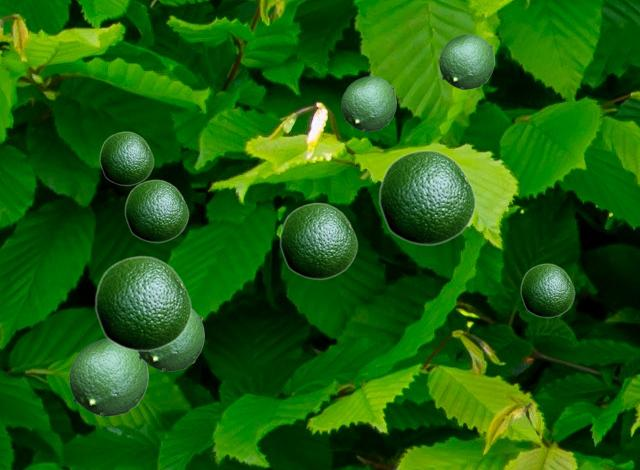calamansi: (378, 149, 475, 245), (94, 255, 191, 351), (69, 338, 147, 415), (279, 202, 357, 279), (124, 179, 188, 242), (138, 308, 203, 370), (99, 131, 153, 185), (520, 263, 574, 317), (439, 34, 493, 88), (341, 76, 395, 130)
